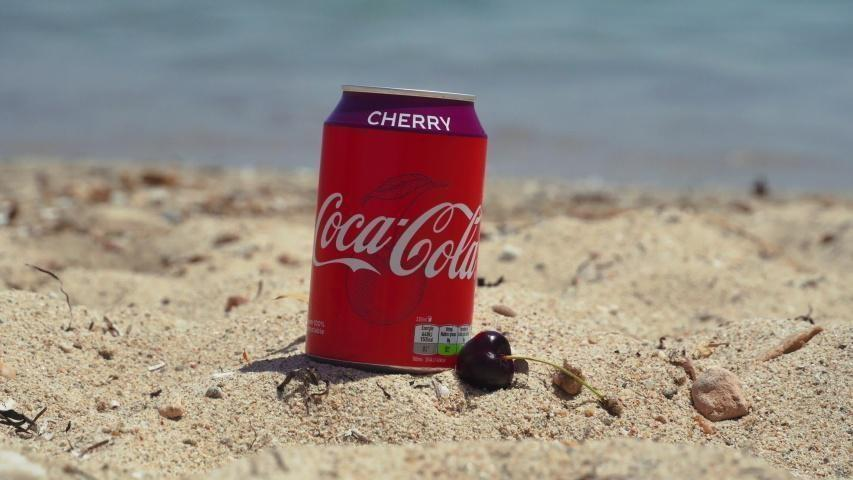tin can: (302, 82, 491, 371)
